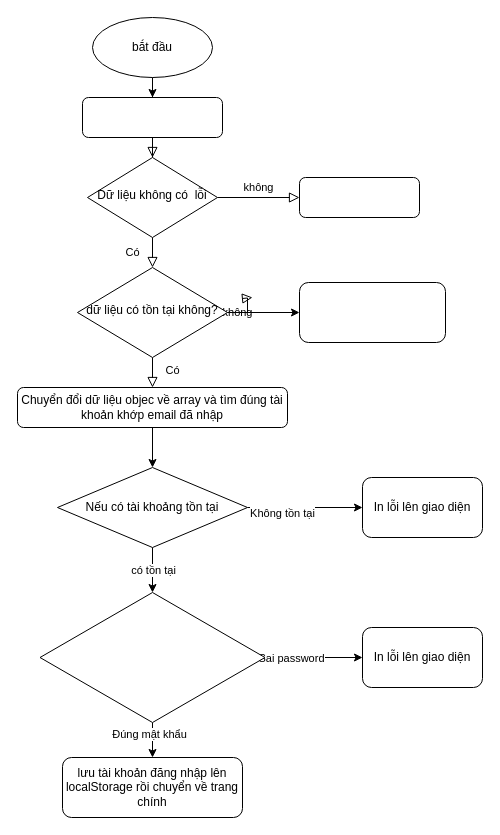
Some shapes in this 500 by 835 pixel diagram are drawn without their labels. The shapes that lost their labels are listed below. From the top down, each one's box as (x1, y1, x2, y2) in pixels, then its label:
(82, 96, 222, 138): lấy dữ liệu từ firebase
(298, 176, 420, 218): in lỗi ra màn hình console
(298, 282, 446, 342): in "No data available" ra màn hình console
(39, 592, 265, 722): Kiểm tra mật khẩu có mã hóa có khớp với mật khẩu được nhậ không
